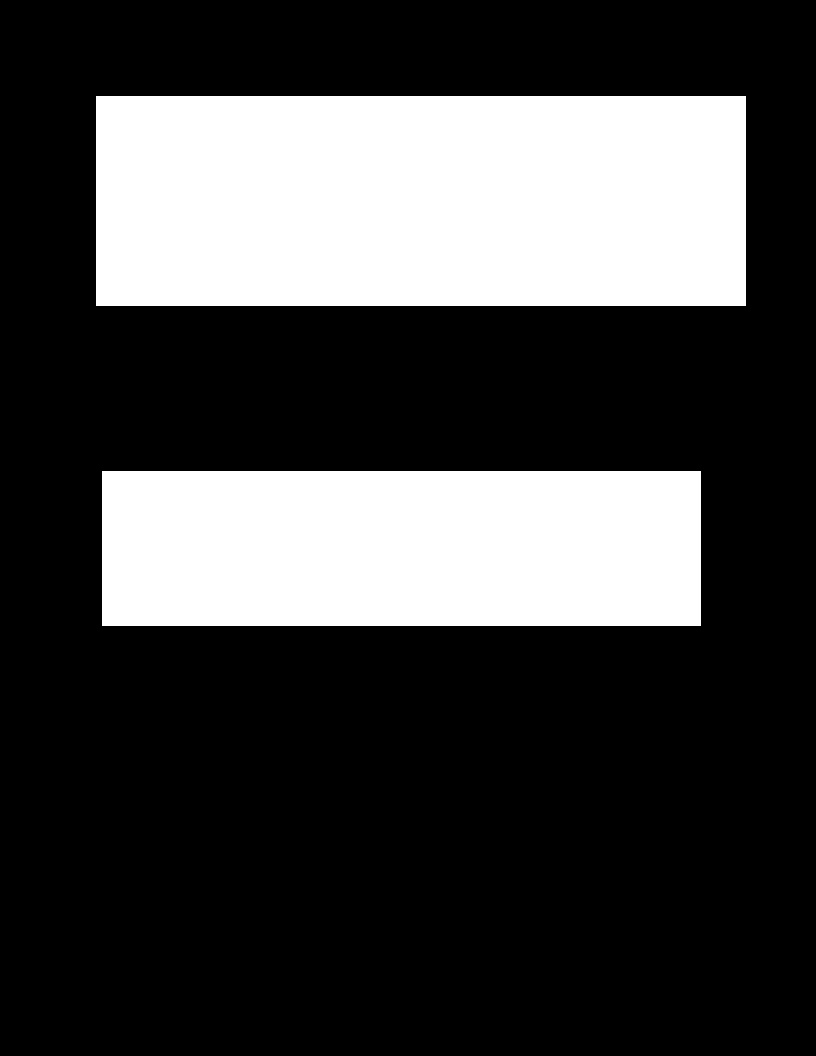table: (96, 96, 745, 305), (102, 471, 700, 625)
